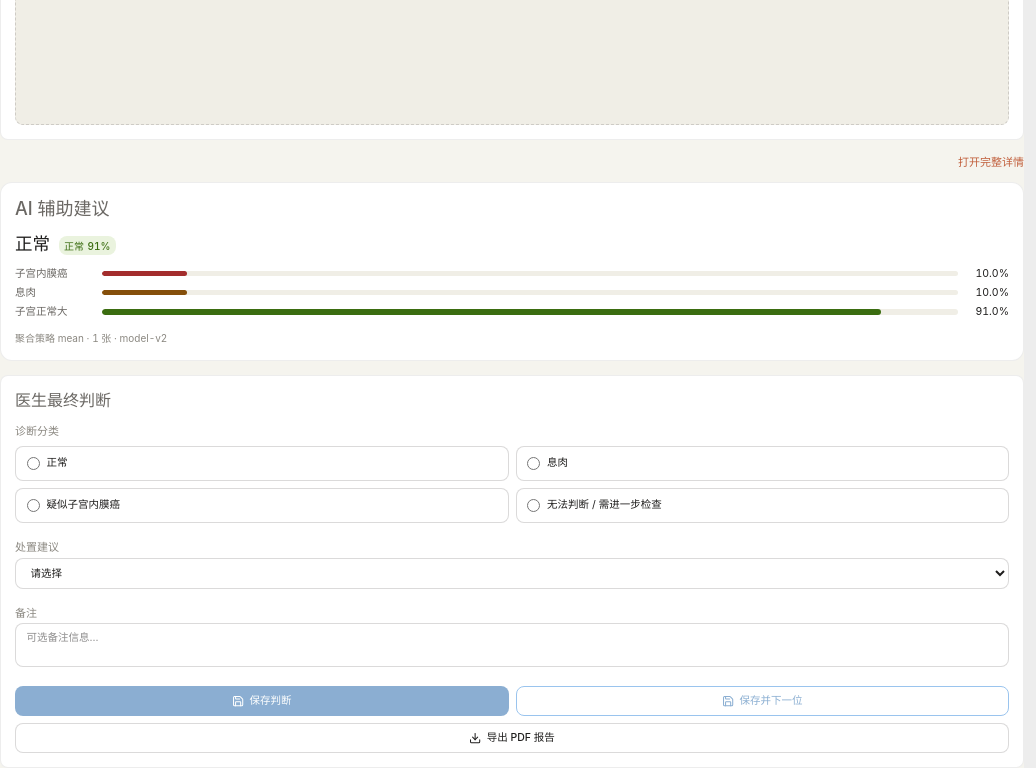
Test case: BatchDetail continuous diagnosis workflow › announces completion after the primary save diagnoses the final terminal patient
(page scrolled)
Click the radio button labelled "正常": (33, 464) [26,457,40,470]
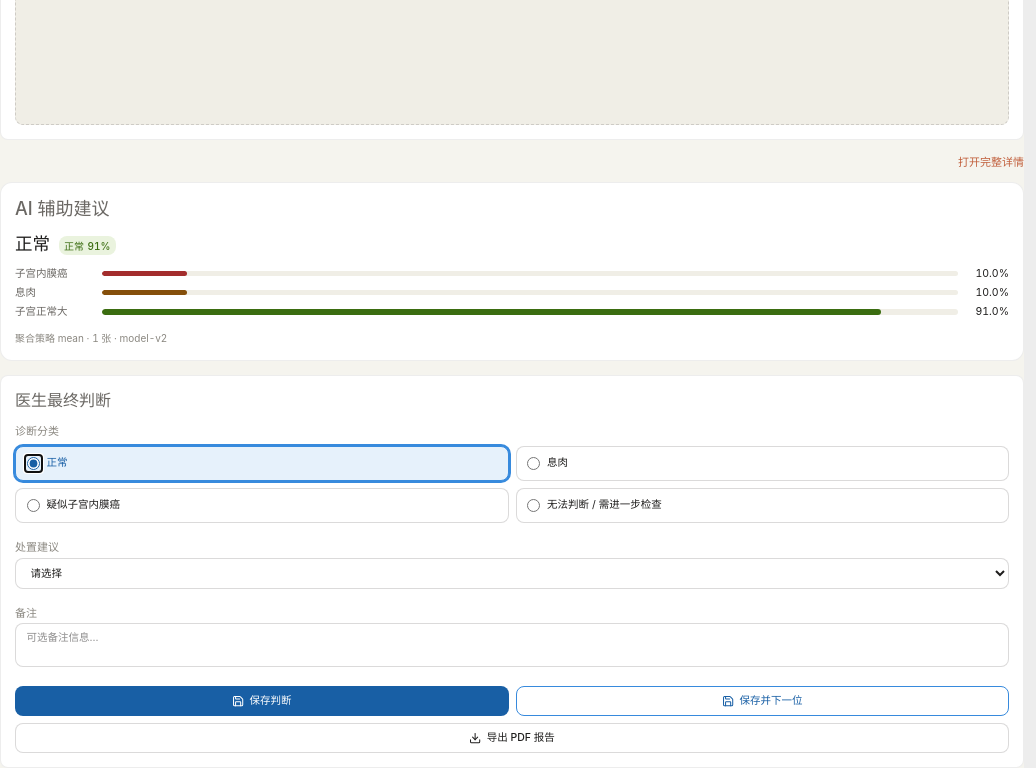
Click the button "保存判断": (262, 701) [15,686,508,716]
(page scrolled)
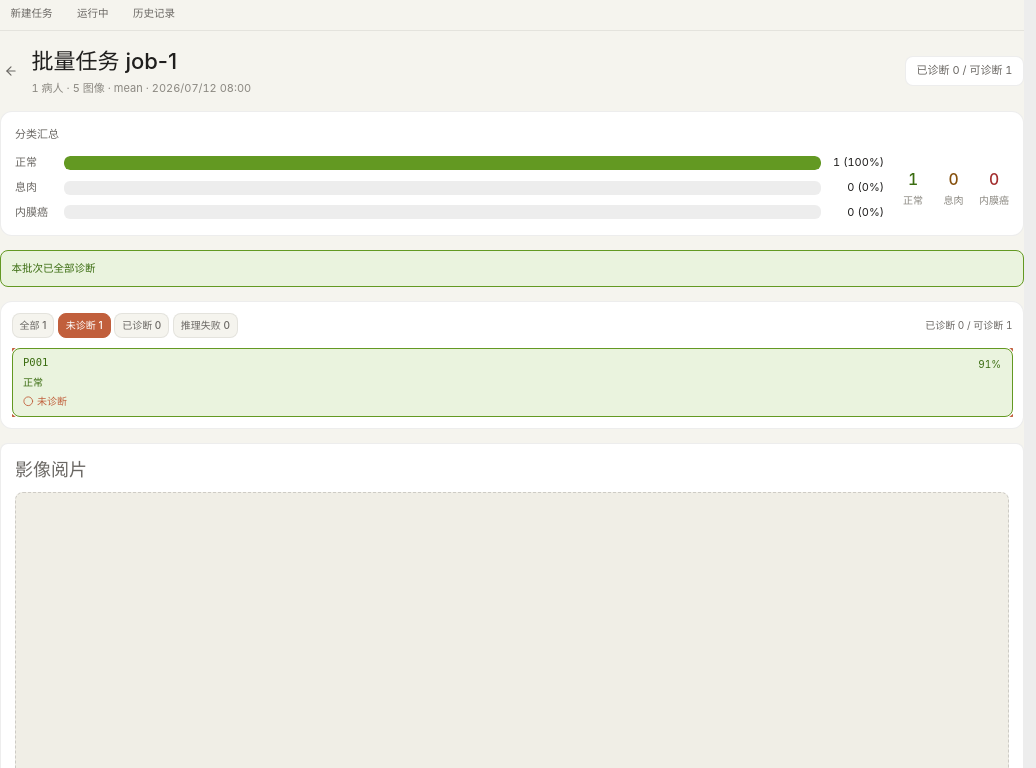
Check: the text "本批次已全部诊断" is shown, box [0,250,1024,287]
